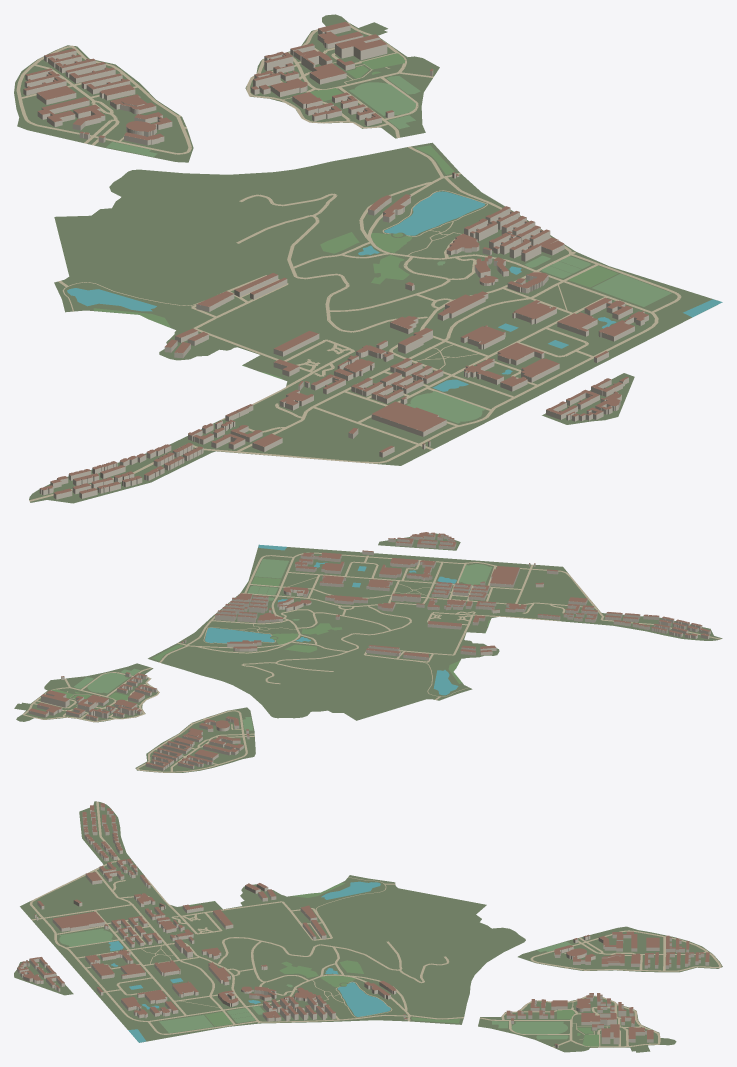
3 views of the same model, one above another, from view 1: azimuth 30°, elevation 25°; view 2: azimuth 150°, elevation 25°; view 3: azimuth 270°, elevation 25° (orthographic). The views are drawn at different scales.
Parts seen in each view (by area): view 1: campus-ground, environment (×4), buildings, roofs; view 2: campus-ground, environment (×4), buildings, roofs; view 3: campus-ground, environment (×4), roofs, buildings.
Part boxes in pixels (bbox=[...]): campus-ground: bbox=[14, 14, 717, 503]; environment (×4): bbox=[16, 22, 722, 501]; buildings: bbox=[23, 25, 648, 499]; roofs: bbox=[24, 21, 648, 494]; campus-ground: bbox=[14, 533, 722, 772]; environment (×4): bbox=[22, 544, 720, 772]; buildings: bbox=[28, 533, 710, 770]; roofs: bbox=[29, 532, 710, 767]; campus-ground: bbox=[14, 801, 722, 1052]; environment (×4): bbox=[29, 801, 721, 1047]; roofs: bbox=[17, 803, 709, 1044]; buildings: bbox=[17, 805, 709, 1048].
Size of the model in its own units: 1889 by 23.25 by 2249.
